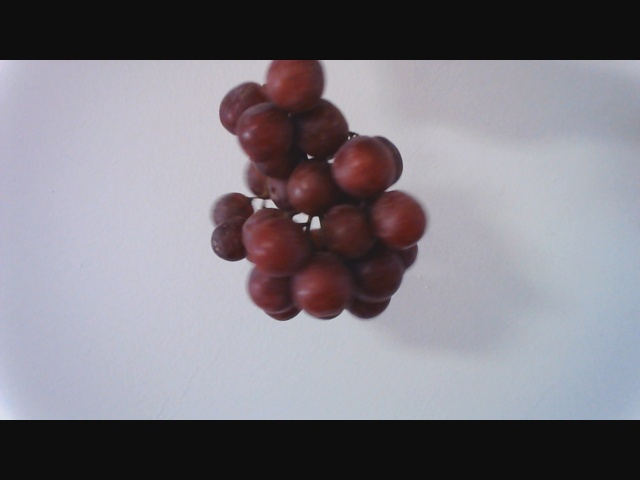grape: (201, 63, 423, 327)
